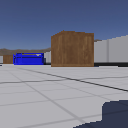blue_basket: (13, 52, 44, 65)
obstacle: (51, 30, 94, 67), (3, 55, 13, 64)
